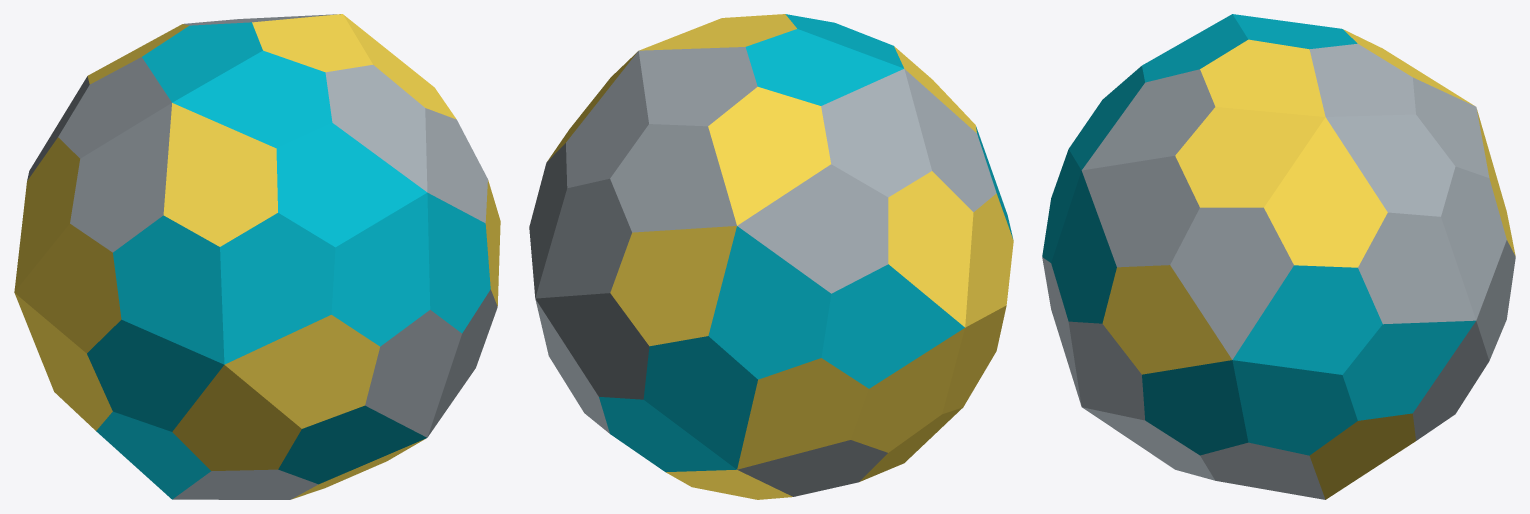
Rendered from PentagonalHexecontahedron.glb.
3 views of the same model, side by side, from view 1: azimuth 30°, elevation 25°; view 2: azimuth 150°, elevation 25°; view 3: azimuth 270°, elevation 25° (orthographic). The views are drawn at different scales.
Bounding box in the file's own units: 7.48 × 7.2 × 7.26.
